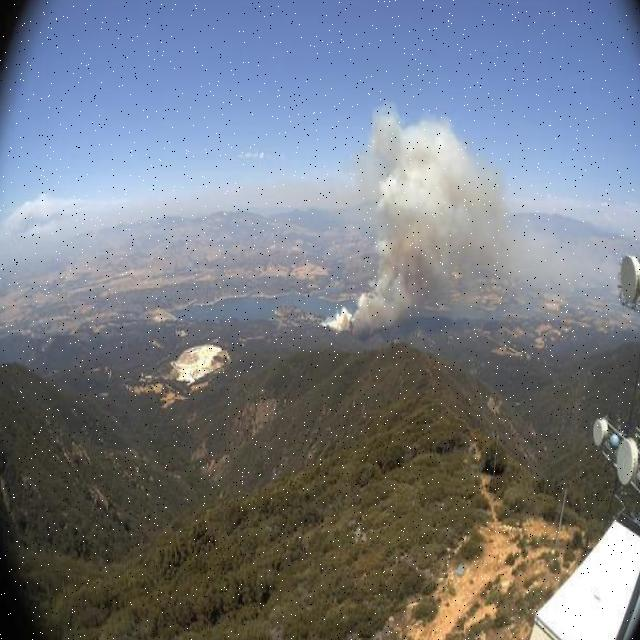smoke: (318, 96, 517, 343)
